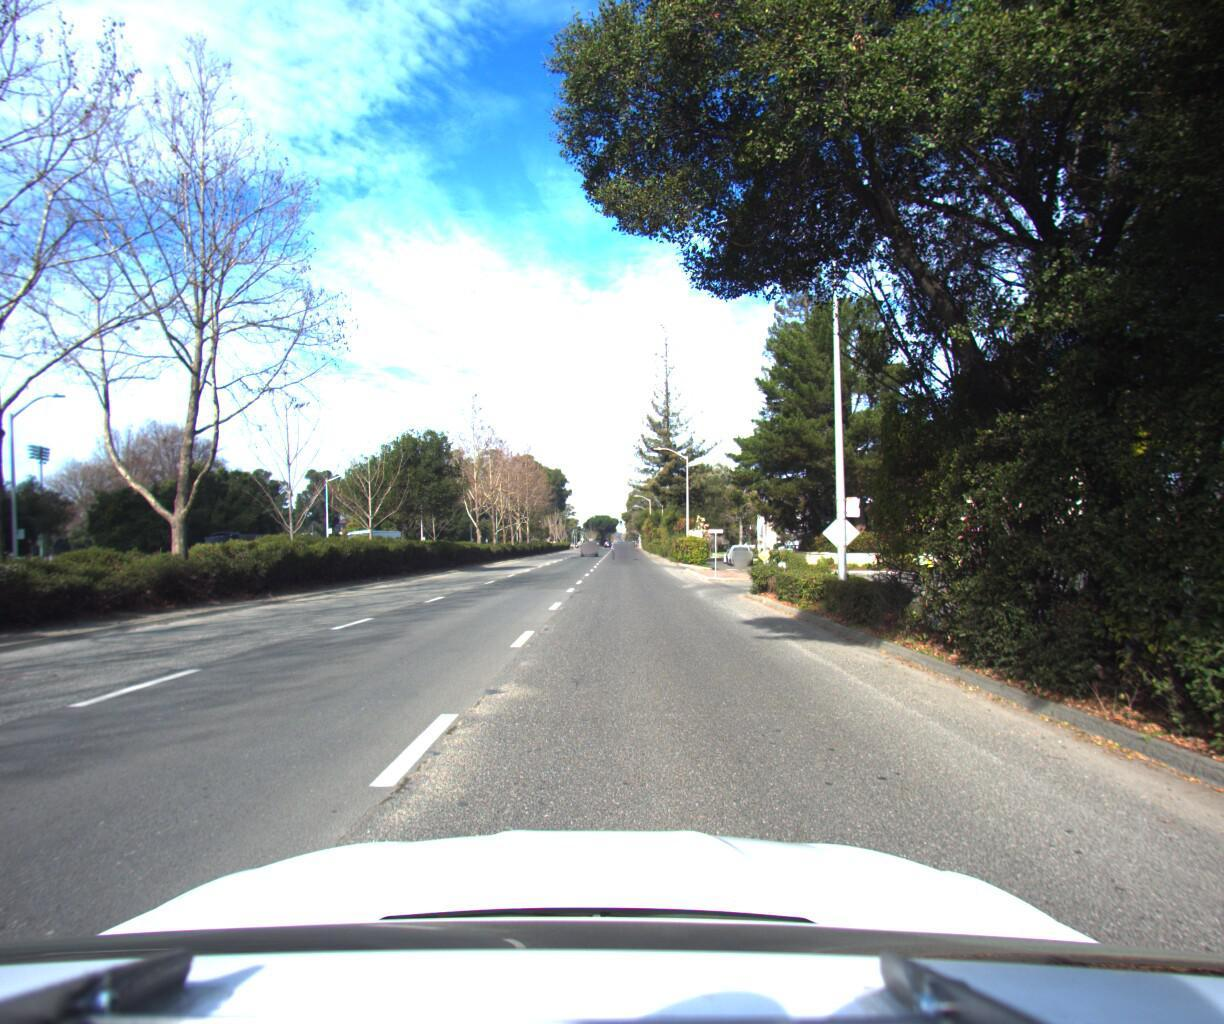car: (724, 534, 751, 558), (612, 534, 633, 552), (582, 535, 599, 549)
